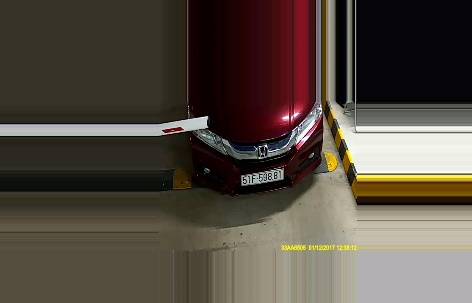plate: (236, 168, 288, 183)
